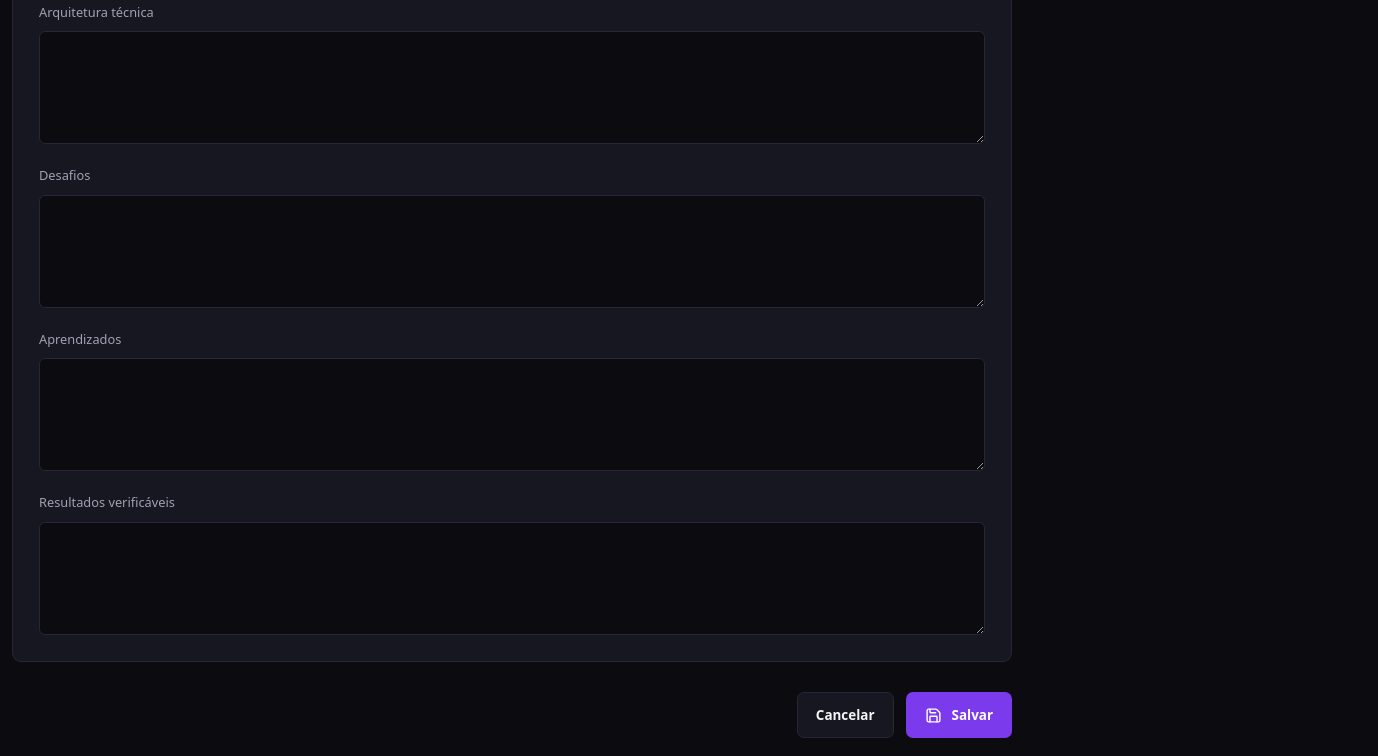
Formulários privados › projeto exige slug e tradução PT-BR antes de gravar
The width and height of the screenshot is (1378, 756).
(page scrolled)
Click the button "Salvar".
click(959, 715)  # box [906,692,1012,738]
(page scrolled)
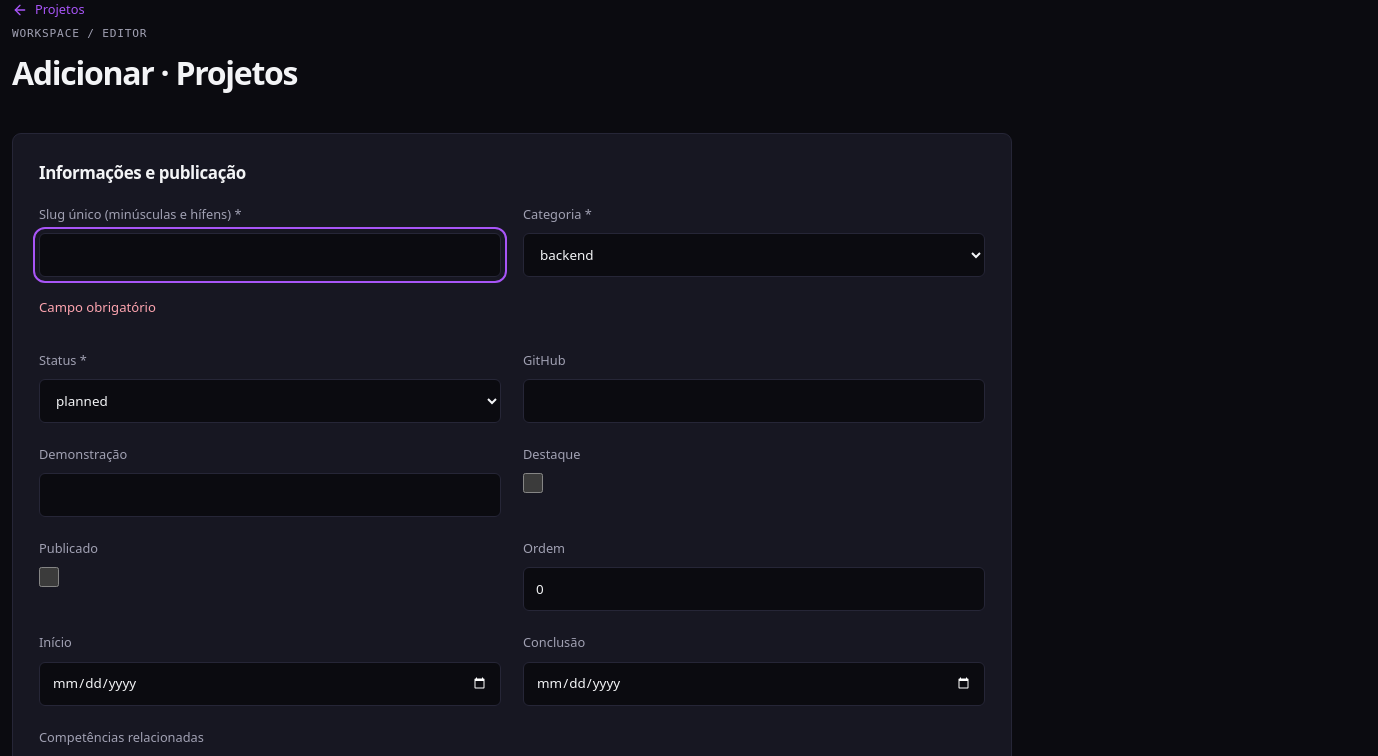
Expected: the text "Campo obrigatório" is shown 2 times
